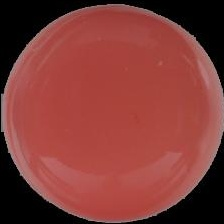0032-1708: (0, 0, 224, 224)
